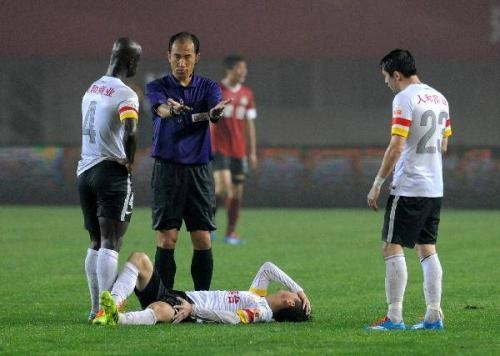falling: (92, 249, 318, 327)
